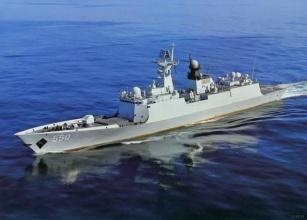warship: (15, 44, 288, 154)
